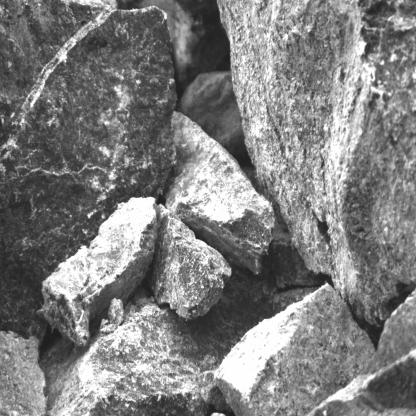stone: (217, 0, 416, 330), (0, 0, 177, 342), (214, 282, 376, 416), (163, 110, 279, 274), (36, 197, 159, 347), (150, 203, 232, 320)
